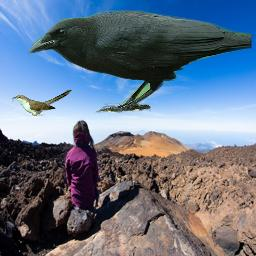Crow: (28, 10, 253, 115)
Cuckoo: (12, 89, 72, 116)
